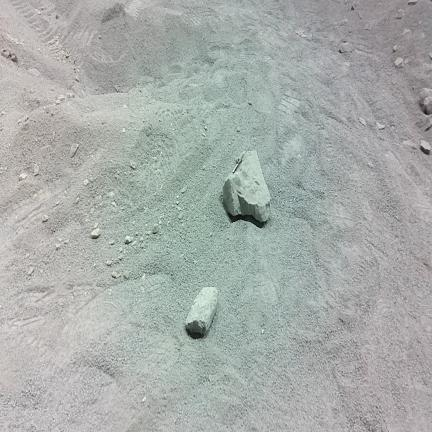Rock: (223, 151, 270, 221), (186, 287, 217, 334), (420, 88, 431, 114), (339, 42, 352, 53), (421, 141, 430, 154), (70, 143, 78, 157), (402, 29, 411, 40), (91, 228, 100, 238), (151, 223, 159, 234), (395, 58, 403, 68), (396, 9, 403, 19), (19, 173, 27, 181), (124, 236, 132, 244), (27, 267, 34, 275), (34, 164, 39, 175), (42, 214, 48, 223), (359, 118, 366, 125), (130, 161, 136, 169), (408, 0, 417, 5), (377, 123, 384, 129), (124, 271, 129, 279), (84, 179, 89, 185)
